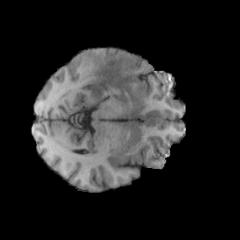glioma: (78, 51, 149, 96)
